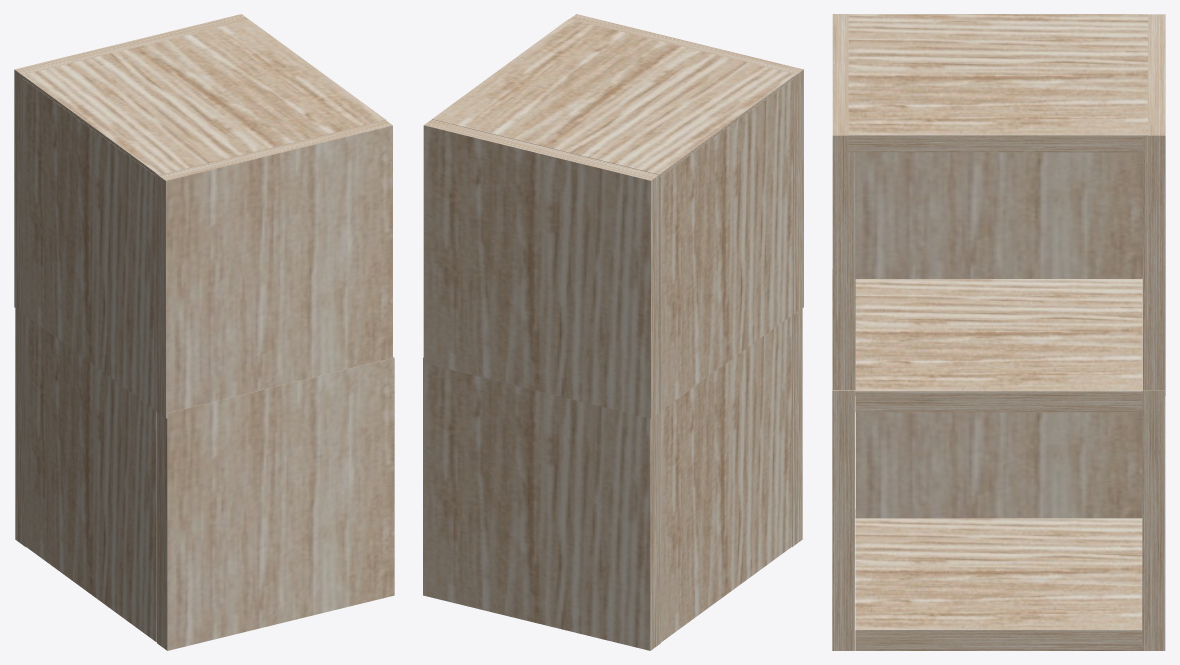
The model's file is lemariBukuKecil_normal.gltf.
3 renders of one model, left to right at view 1: azimuth 30°, elevation 25°; view 2: azimuth 150°, elevation 25°; view 3: azimuth 270°, elevation 25°, orthographic. The views are drawn at different scales.
Parts seen in each view (by area): view 1: Cube.002, Cube.008, Cube.005, Cube.001, Cube.011, Cube.007, Cube.004; view 2: Cube.007, Cube.004, Cube.005, Cube.001, Cube.011, Cube.002, Cube.008; view 3: Cube.001, Cube.010, Cube.006, Cube.005, Cube.011, Cube.007, Cube.002, Cube.004, Cube.008.
Boxes of the visible parts, x1,y1,x2,y2 form: Cube.002: (155,120,392,418); Cube.008: (157,357,394,650); Cube.005: (23,79,155,409); Cube.001: (22,19,385,175); Cube.011: (25,315,156,642); Cube.007: (14,14,248,314); Cube.004: (15,308,25,546); Cube.007: (423,119,660,418); Cube.004: (423,357,660,650); Cube.005: (659,80,792,411); Cube.001: (432,19,795,189); Cube.011: (661,315,791,642); Cube.002: (570,14,803,314); Cube.008: (792,308,802,546); Cube.001: (848,14,1147,152); Cube.010: (855,279,1142,412); Cube.006: (855,509,1142,650); Cube.005: (855,152,1142,278); Cube.011: (855,412,1142,518); Cube.007: (1143,14,1165,395); Cube.002: (832,14,855,395); Cube.004: (1142,278,1165,650); Cube.008: (832,269,854,650).
Size of the model in its own units: 0.8855 by 1.74 by 1.02.
Materials: 9 (9 with a texture image).
